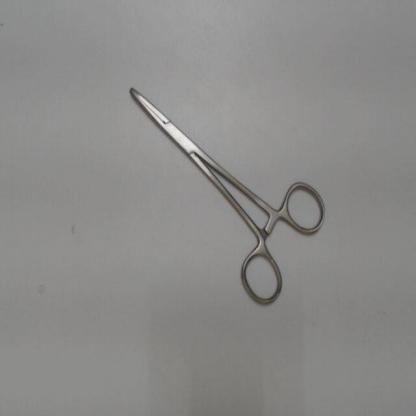Mayo Needle Holder: (118, 73, 333, 315)
